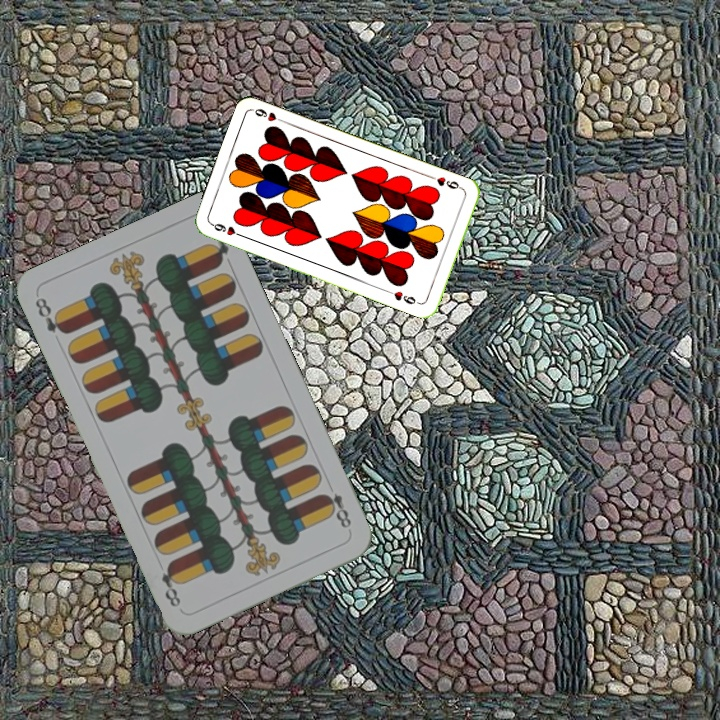E8: (31, 293, 70, 337), (318, 489, 354, 531)
H9: (426, 172, 466, 193), (207, 219, 246, 240)
